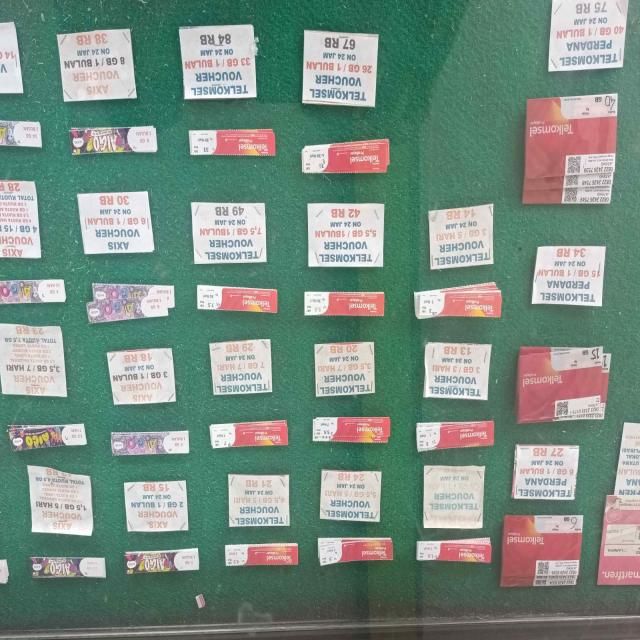Axis: (56, 28, 140, 100), (24, 461, 98, 539), (76, 187, 158, 254), (1, 323, 69, 398), (104, 346, 180, 405), (119, 476, 193, 533), (84, 279, 177, 321), (1, 180, 44, 262), (66, 122, 160, 156), (28, 553, 108, 585), (6, 422, 87, 452), (110, 428, 191, 457), (0, 22, 25, 99), (123, 550, 200, 574), (0, 278, 68, 305), (0, 120, 43, 148)
Telkomsel: (523, 95, 618, 207), (519, 340, 616, 425), (300, 24, 382, 112), (178, 23, 262, 102), (549, 0, 632, 77), (503, 512, 585, 589), (189, 196, 270, 268), (421, 334, 496, 406), (426, 203, 500, 270), (535, 240, 604, 310), (422, 463, 486, 532), (512, 439, 580, 501), (206, 336, 276, 396), (412, 280, 506, 324), (301, 139, 394, 176), (188, 125, 278, 161), (196, 279, 280, 317), (230, 474, 291, 526), (416, 418, 497, 456), (314, 534, 397, 566), (224, 540, 301, 572), (414, 538, 494, 566), (210, 420, 290, 448)
smartfren: (597, 492, 640, 590)
